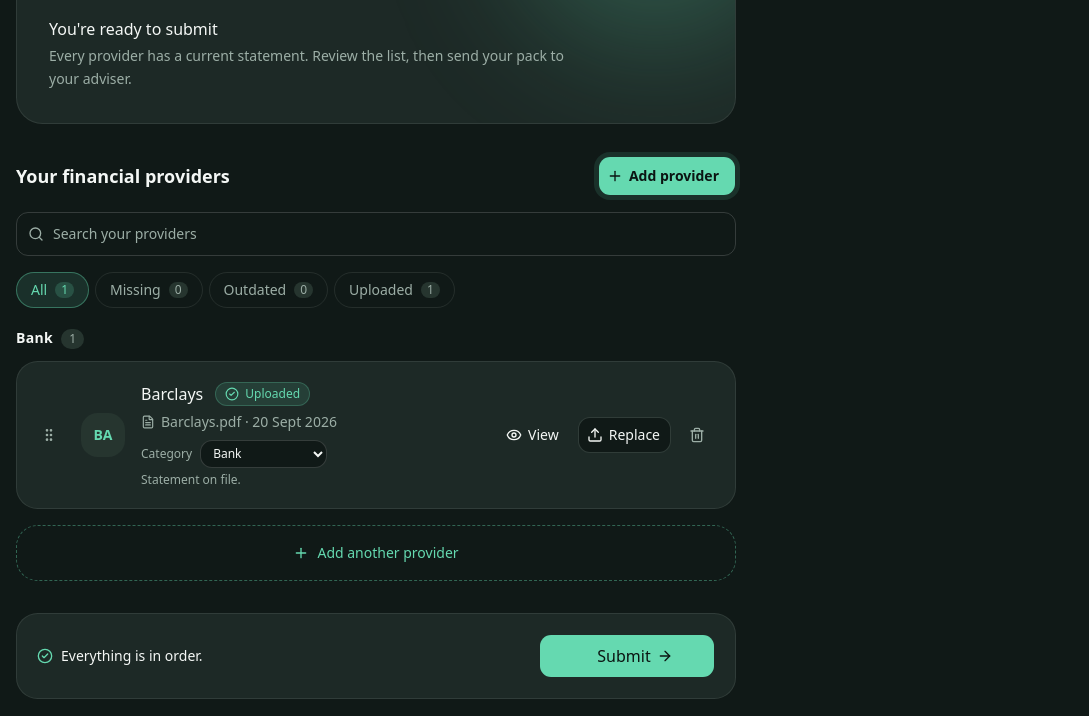
Test: submitting › confirms success after a complete submission
This screenshot has width=1089, height=716.
(page scrolled)
Click the button "Submit" at (627, 656), box top-left (539, 634), bottom-right (715, 678)
(page scrolled)
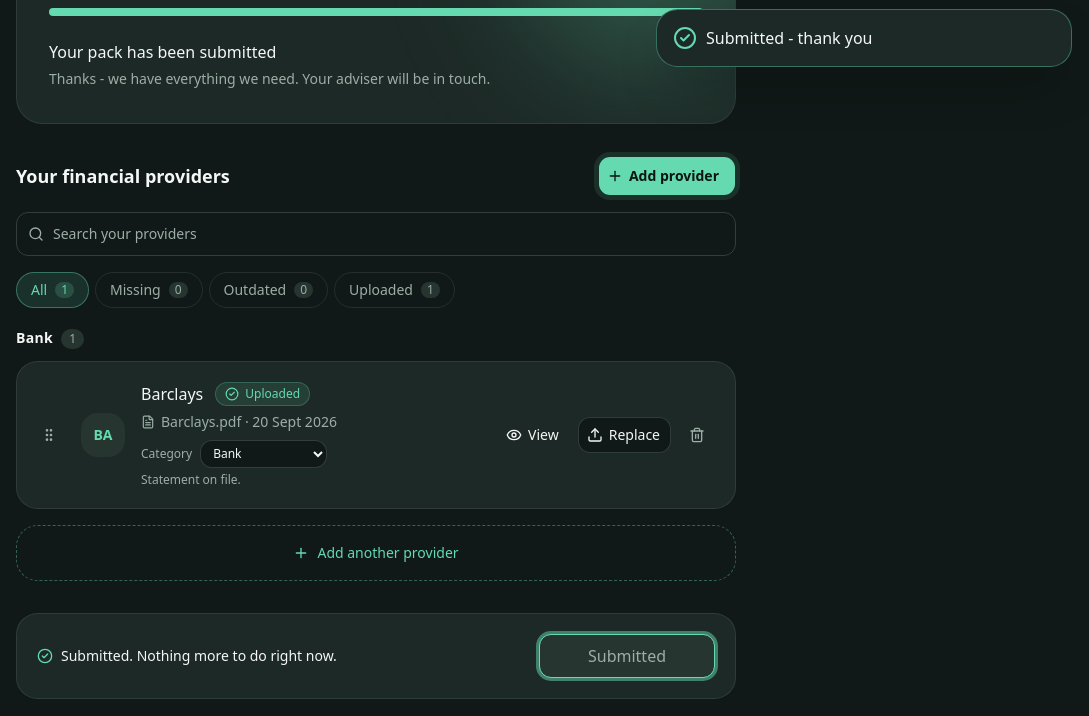
Check: the text "Your pack has been submitted" is shown, box top-left (49, 41), bottom-right (276, 63)
Check: the button "Submitted" is shown, box top-left (539, 634), bottom-right (715, 678)
